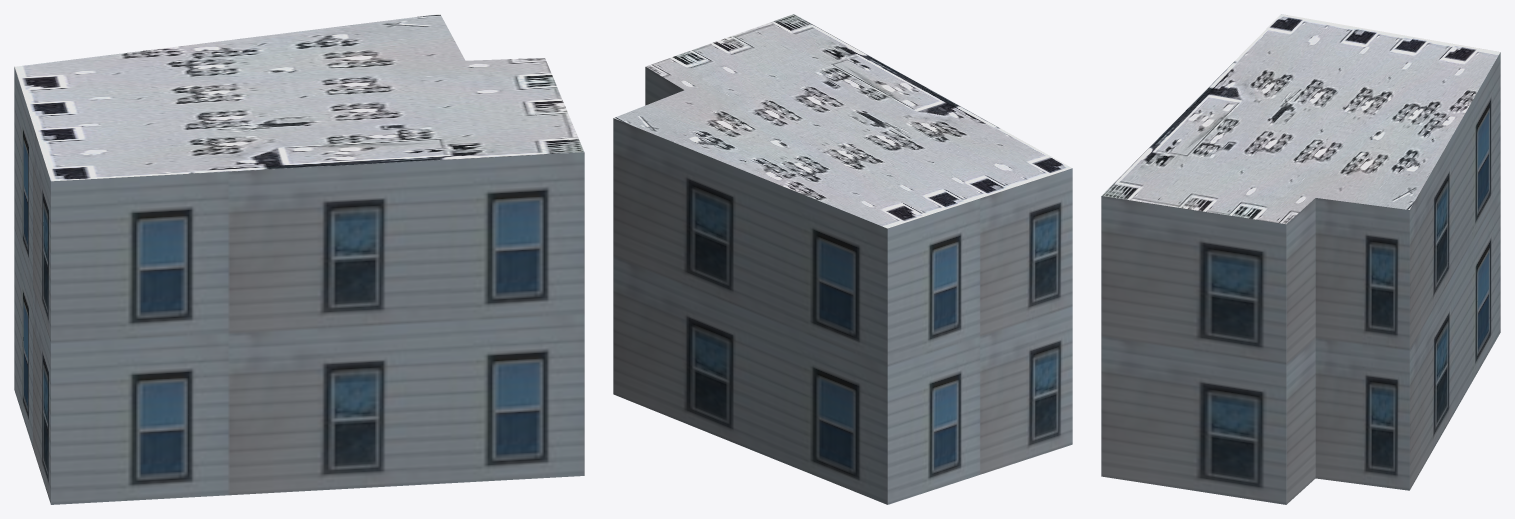
The model's file is ResTex__2555.fbx.
3 renders of one model, left to right at view 1: azimuth 30°, elevation 25°; view 2: azimuth 150°, elevation 25°; view 3: azimuth 270°, elevation 25°, orthographic. The views are drawn at different scales.
Parts seen in each view (by area): view 1: CityEngineMaterial_18_m, CityEngineMaterial_8_m; view 2: CityEngineMaterial_18_m, CityEngineMaterial_8_m; view 3: CityEngineMaterial_18_m, CityEngineMaterial_8_m.
Part boxes in pixels (bbox=[...]): CityEngineMaterial_18_m: bbox=[14, 67, 584, 504]; CityEngineMaterial_8_m: bbox=[14, 14, 584, 181]; CityEngineMaterial_18_m: bbox=[613, 67, 1072, 504]; CityEngineMaterial_8_m: bbox=[614, 14, 1071, 228]; CityEngineMaterial_18_m: bbox=[1101, 52, 1500, 504]; CityEngineMaterial_8_m: bbox=[1102, 14, 1500, 224].
Size of the model in its own units: 9.64 by 6 by 7.73.
Materials: 2 (2 with a texture image).
